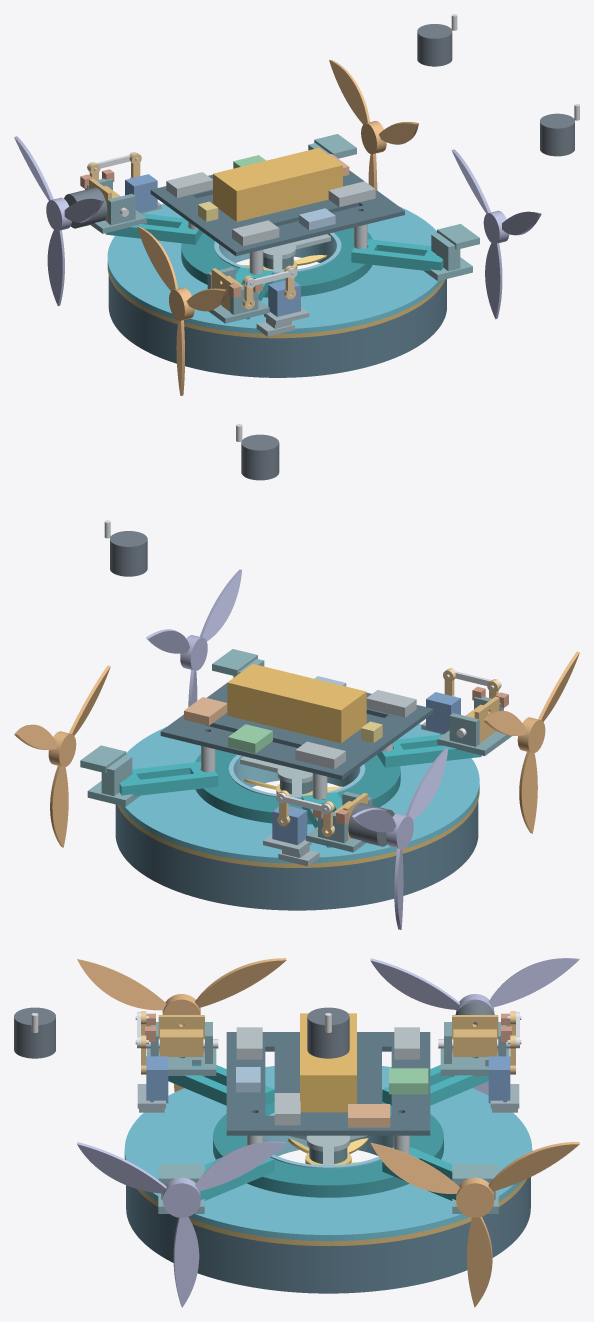
File: drover.glb
3 renders of one model, top to bottom at view 1: azimuth 30°, elevation 25°; view 2: azimuth 150°, elevation 25°; view 3: azimuth 270°, elevation 25°, orthographic. The views are drawn at different scales.
Size of the model in its own units: 0.347 by 0.2469 by 0.4167.
